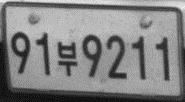1: (34, 31, 51, 77), (131, 35, 147, 81), (155, 36, 171, 81)
2: (105, 34, 127, 80)
9: (10, 31, 31, 75), (82, 34, 102, 78)
부: (56, 41, 77, 77)
